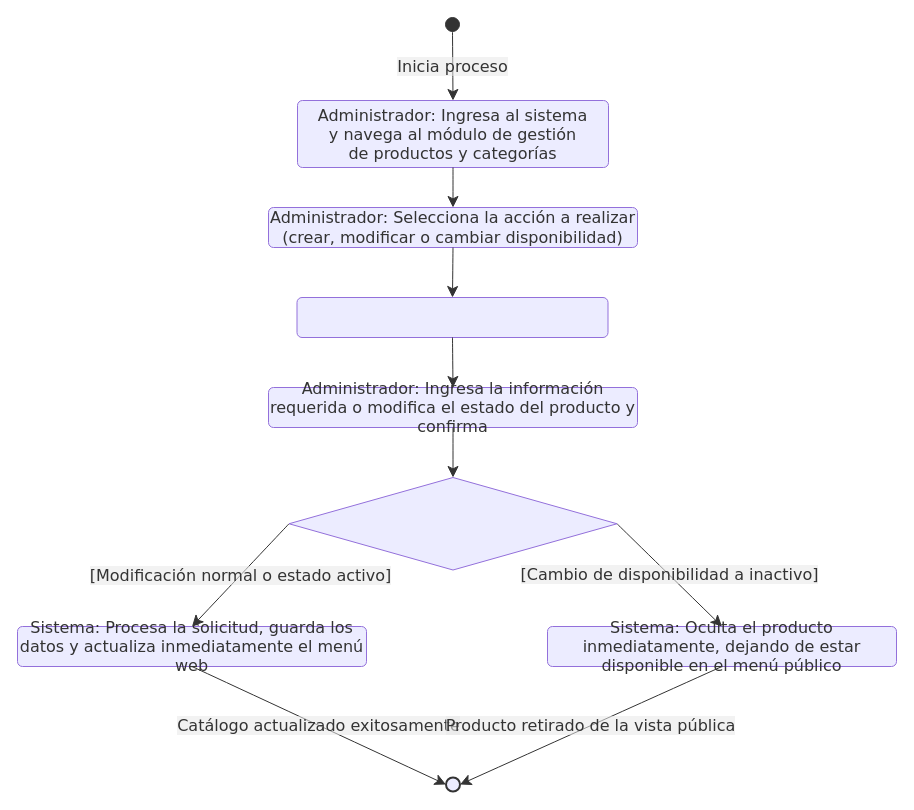
The diagram is 914 pixels wide and 810 high, and some of its shapes have lost their labels. Each missing label, with the centre of its shape:
"Sistema: Evalúa el tipo de actualización" goes at pixel 452 523.
"Sistema: Muestra el formulario o listado de controles correspondientes" goes at pixel 452 317.
